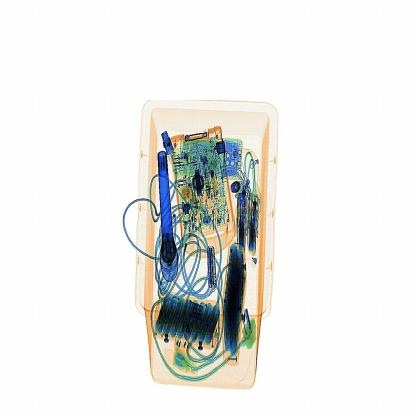scissors: (202, 237, 224, 294)
